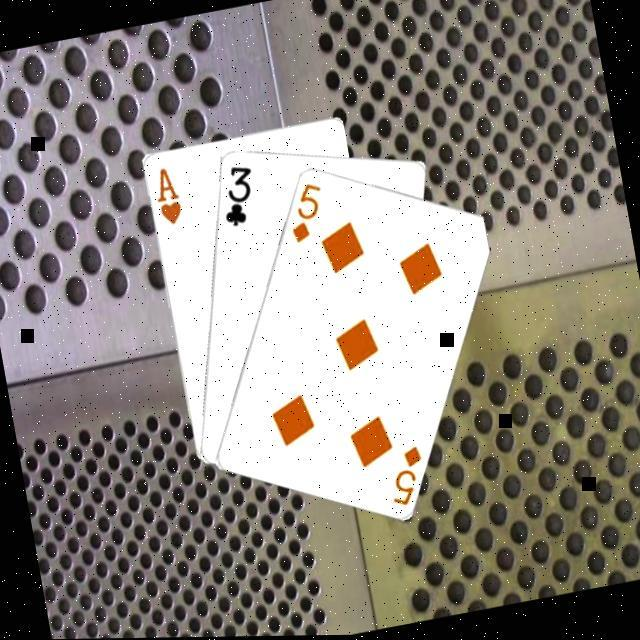3C: (214, 161, 265, 233)
5D: (383, 442, 435, 513), (283, 179, 335, 248)
AH: (150, 164, 188, 230)
